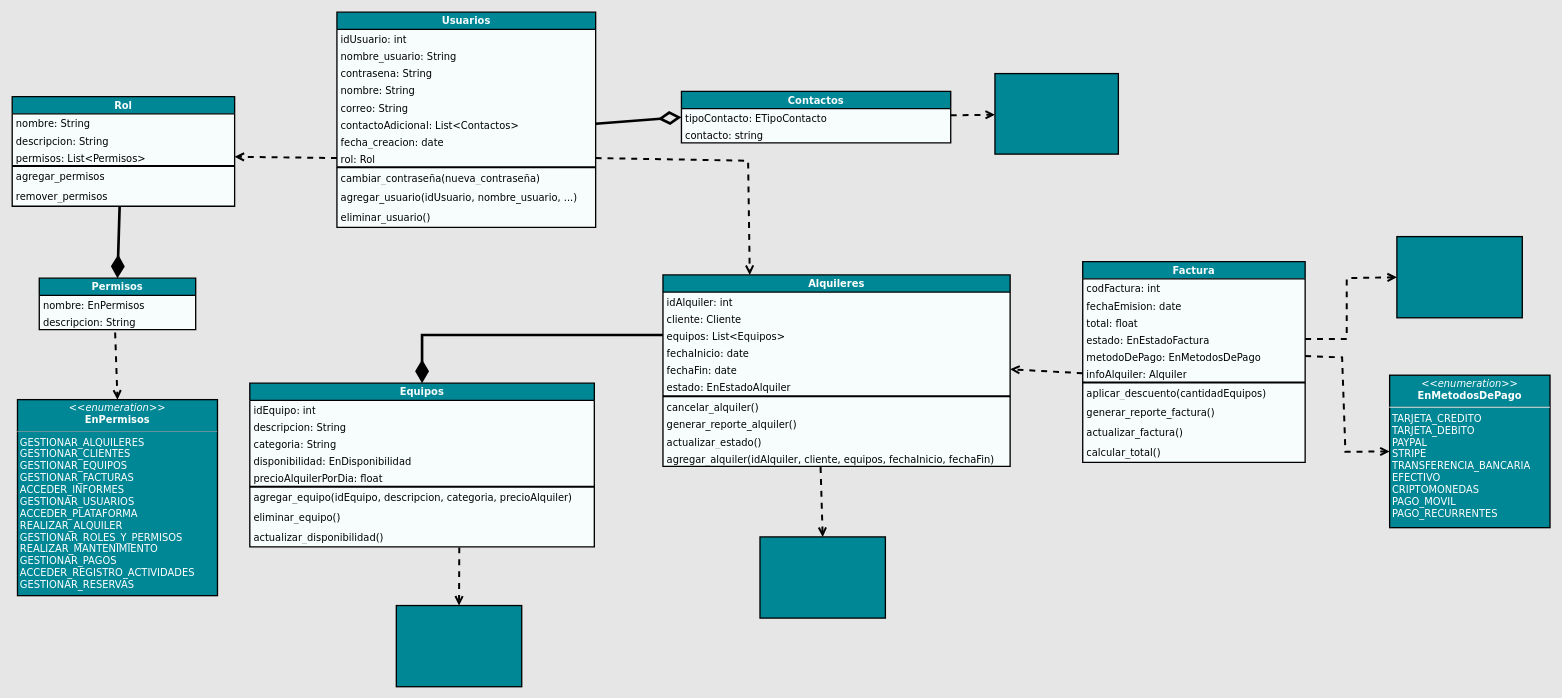
Image size: 1562x698. Some labels were removed from this diagram. Each missing label, with the centre of its shape:
"<<enumeration>> EnDisponibilidad DISPONIBLE ALQUILADO EN MANTENIMIENTO" goes at (458,646).
"<<enumeration>> EnEstadoAlquiler EN_CURSO FINALIZADO CANCELADO" goes at (822,577).
"<<enumeration>> EnEstadoFactura PAGADO PENDIENTE" goes at (1459,277).
"<<enumeration>> EnTipoContacto CELULAR CORRREO TELEFONO" goes at (1056,113).
